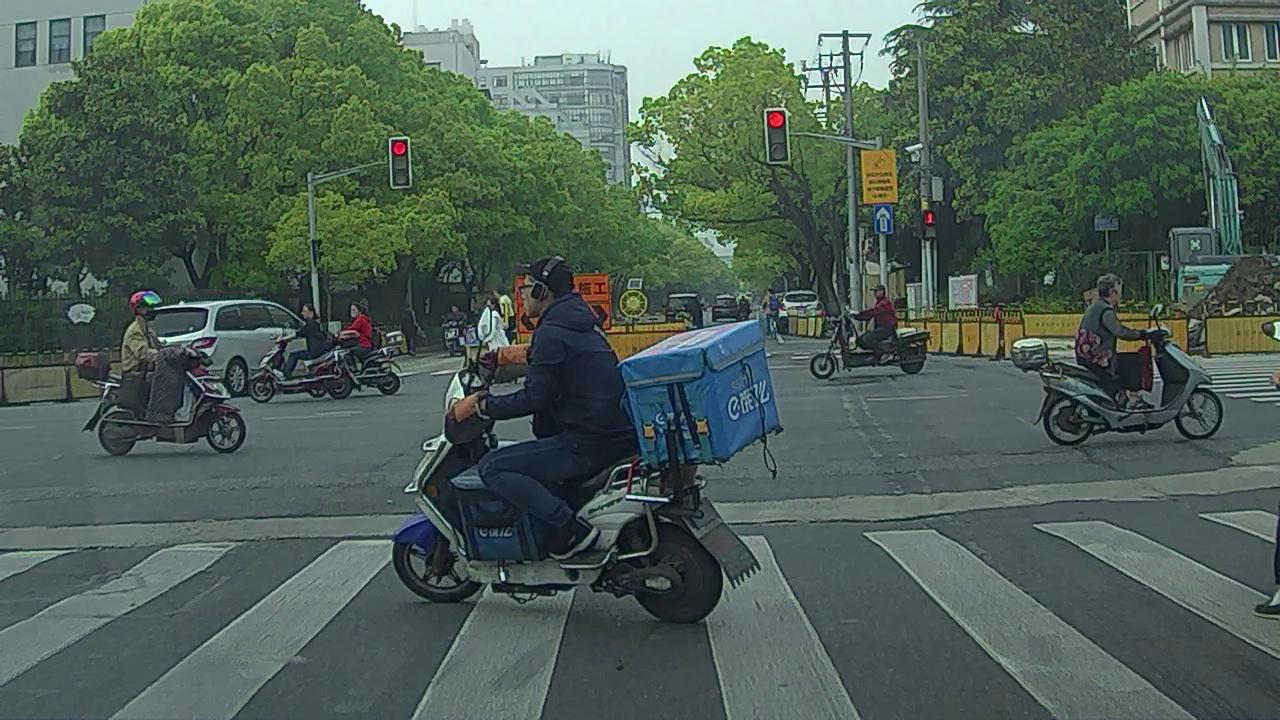traffic_light: (765, 111, 788, 164), (390, 137, 410, 187)
